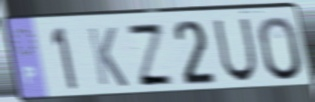1: (49, 25, 82, 93)
2: (174, 18, 219, 88)
K: (85, 25, 130, 89)
O: (256, 14, 306, 83)
U: (211, 17, 260, 85)
Z: (124, 23, 178, 88)
